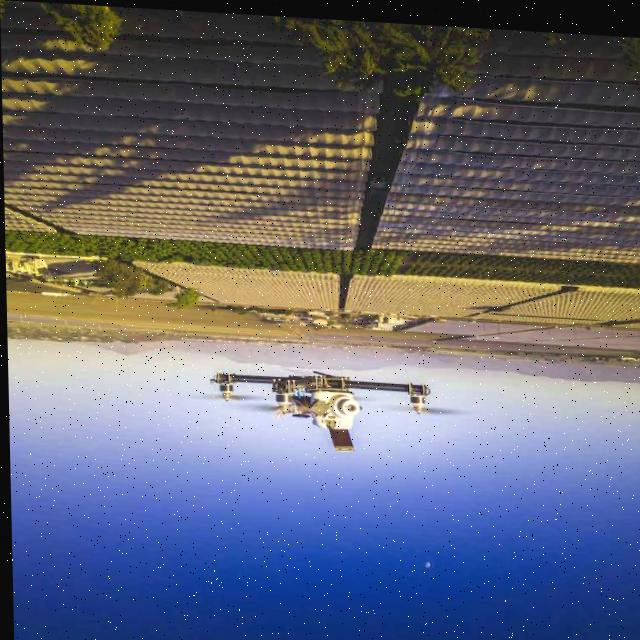drone: (211, 367, 435, 458)
